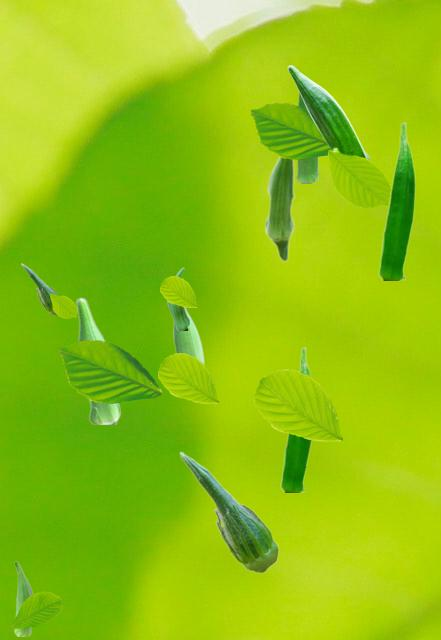okra: (179, 451, 278, 572), (287, 65, 368, 158), (378, 121, 415, 279), (75, 297, 119, 423), (280, 346, 312, 491), (264, 157, 294, 261), (296, 69, 317, 182), (21, 263, 58, 314), (172, 307, 204, 363), (14, 561, 33, 635), (167, 267, 188, 329)
